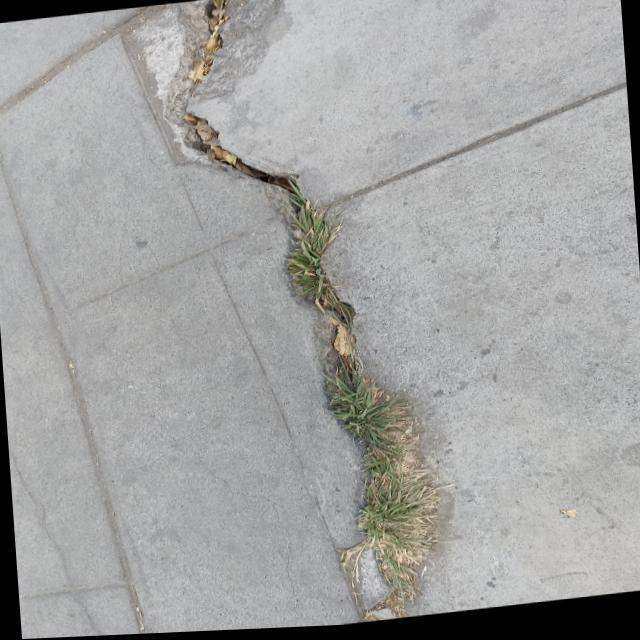hole: (132, 0, 358, 247)
